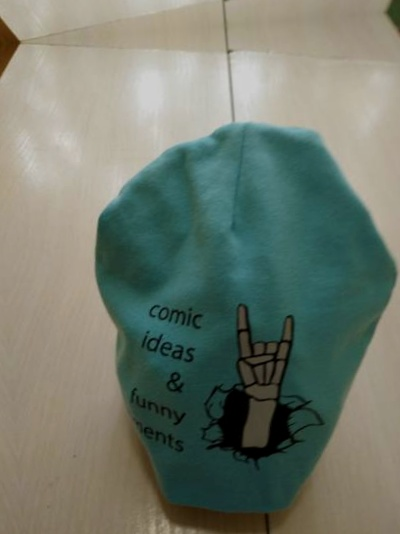Hat: (63, 91, 400, 528)
